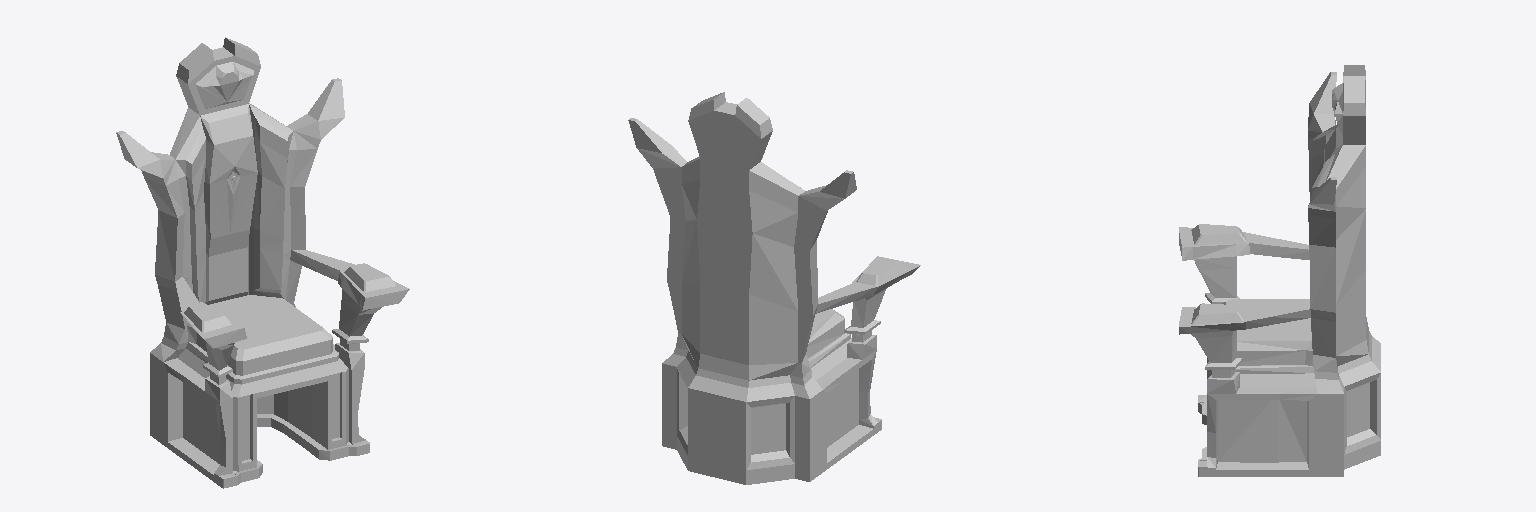
File: Throne_Texture_Set.obj
3 renders of one model, left to right at view 1: azimuth 30°, elevation 25°; view 2: azimuth 150°, elevation 25°; view 3: azimuth 270°, elevation 25°, orthographic.
Visible parts, largest first — view 1: default; view 2: default; view 3: default.
Part boxes in pixels (x1,y1,x2,y2): default: (116, 37, 409, 488); default: (628, 92, 920, 484); default: (1179, 65, 1380, 476).
Size of the model in its own units: 4.71 by 7.47 by 3.71.